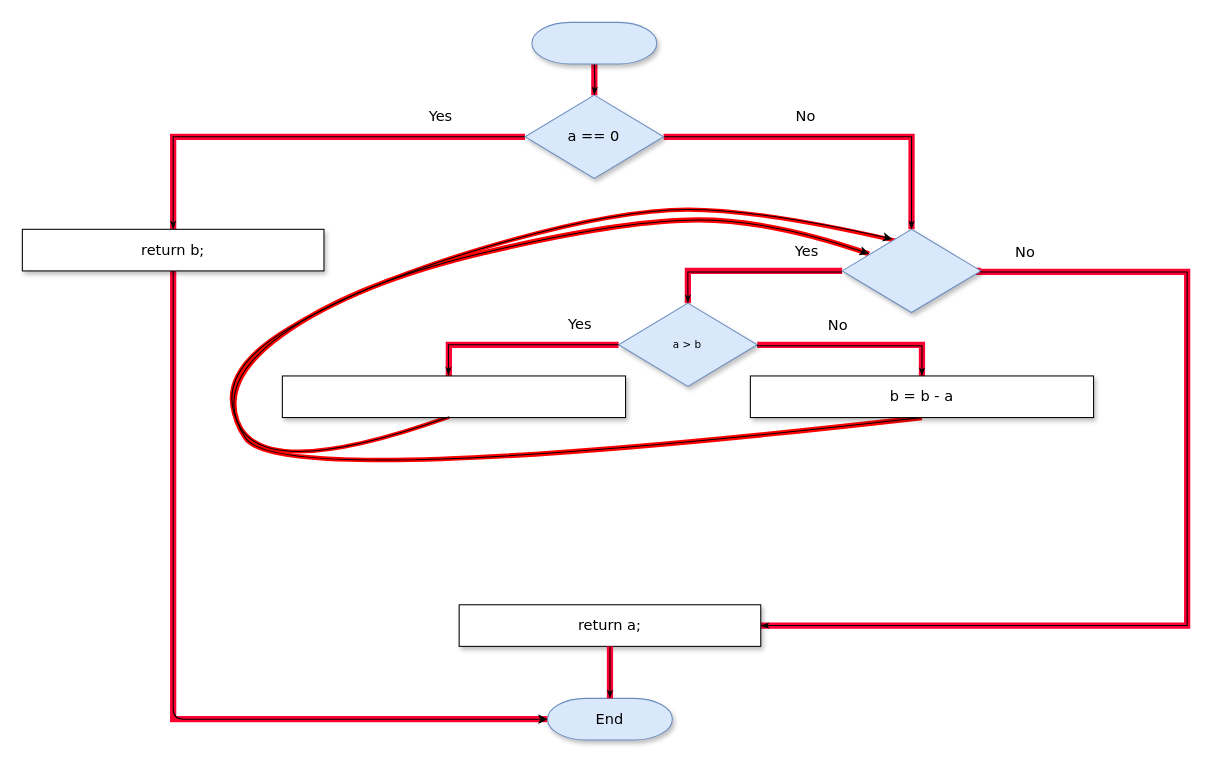
Some shapes in this 1213 by 765 pixel diagram are drawn without their labels. The centre of each missing label's shape, as x and y in pixels:
a = a - b: (x=454, y=398)
b != 0: (x=912, y=272)
Start: (x=595, y=44)
